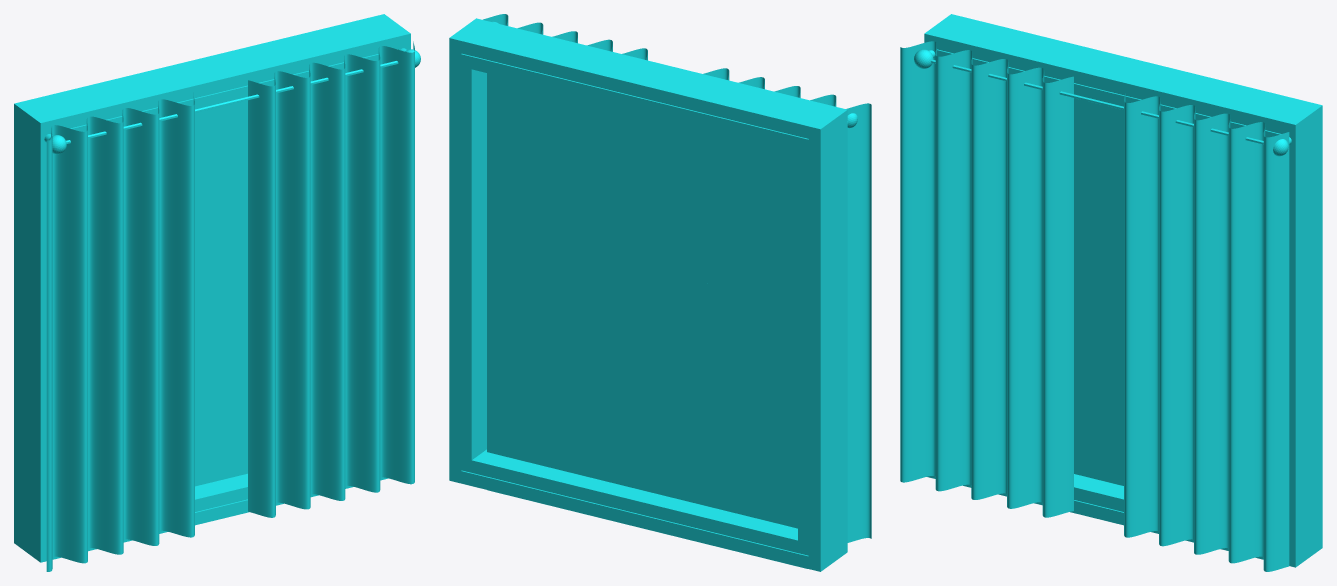
The model's file is window.glb.
The picture shows the model from 3 angles, left to right: view 1: azimuth 30°, elevation 25°; view 2: azimuth 150°, elevation 25°; view 3: azimuth 330°, elevation 25°; orthographic projection.
Parts seen in each view (by area): view 1: curtain_7, curtain_8, panel_1, cube_3, shutter_frame_2, curtain_hold_6; view 2: cube_3, panel_1, shutter_frame_2, curtain_8, curtain_7; view 3: curtain_8, curtain_7, panel_1, cube_3, shutter_frame_2, curtain_hold_6.
Boxes of the visible parts, bbox=[...] form: curtain_7: bbox=[248, 41, 414, 517]; curtain_8: bbox=[46, 92, 194, 571]; panel_1: bbox=[14, 14, 410, 562]; cube_3: bbox=[195, 100, 247, 486]; shutter_frame_2: bbox=[70, 49, 400, 511]; curtain_hold_6: bbox=[66, 61, 398, 143]; cube_3: bbox=[487, 73, 807, 568]; panel_1: bbox=[449, 18, 847, 571]; shutter_frame_2: bbox=[459, 53, 809, 555]; curtain_8: bbox=[703, 68, 871, 542]; curtain_7: bbox=[483, 14, 647, 60]; curtain_8: bbox=[900, 41, 1073, 517]; curtain_7: bbox=[1124, 93, 1289, 571]; panel_1: bbox=[924, 14, 1322, 567]; cube_3: bbox=[1074, 98, 1123, 485]; shutter_frame_2: bbox=[937, 49, 1281, 511]; curtain_hold_6: bbox=[931, 59, 1263, 144].
Bounding box in the file's own units: 0.9001 × 1.03 × 0.178.
